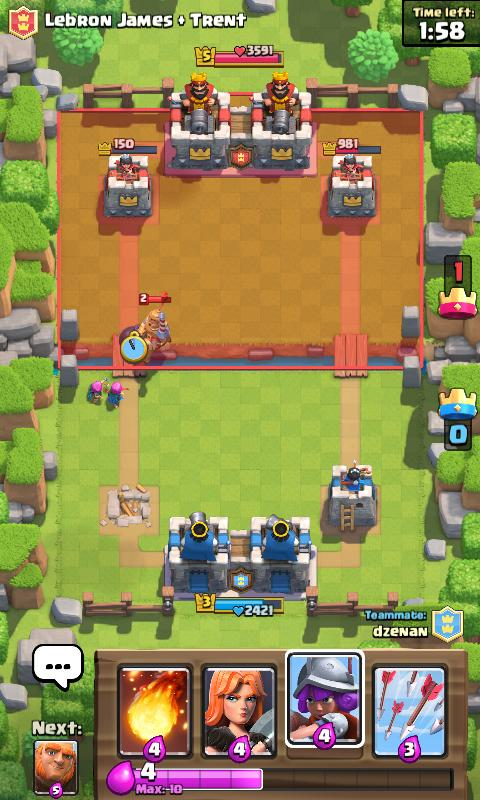ally_archer: (105, 380, 128, 408), (85, 378, 104, 405)
ally_giant_bomb: (117, 321, 138, 347)
enemy_prince: (136, 289, 172, 350)
